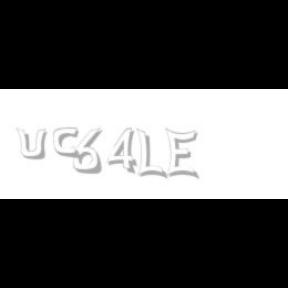4: (106, 128, 138, 174)
6: (74, 128, 102, 176)
E: (166, 128, 198, 180)
L: (137, 128, 165, 180)
c: (54, 128, 82, 160)
u: (15, 128, 50, 160)
